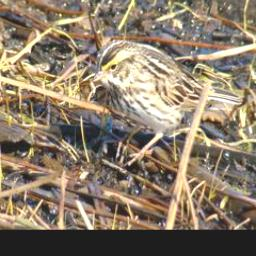Sparrow: (93, 38, 244, 166)
